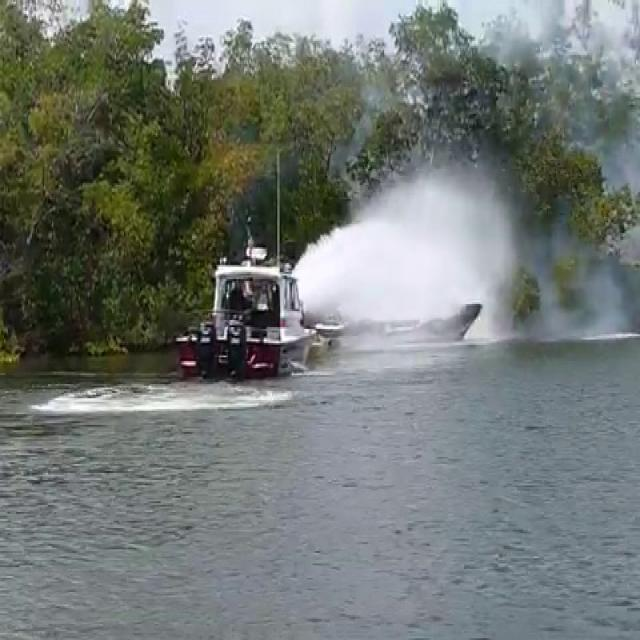Smoke: (298, 132, 626, 352)
